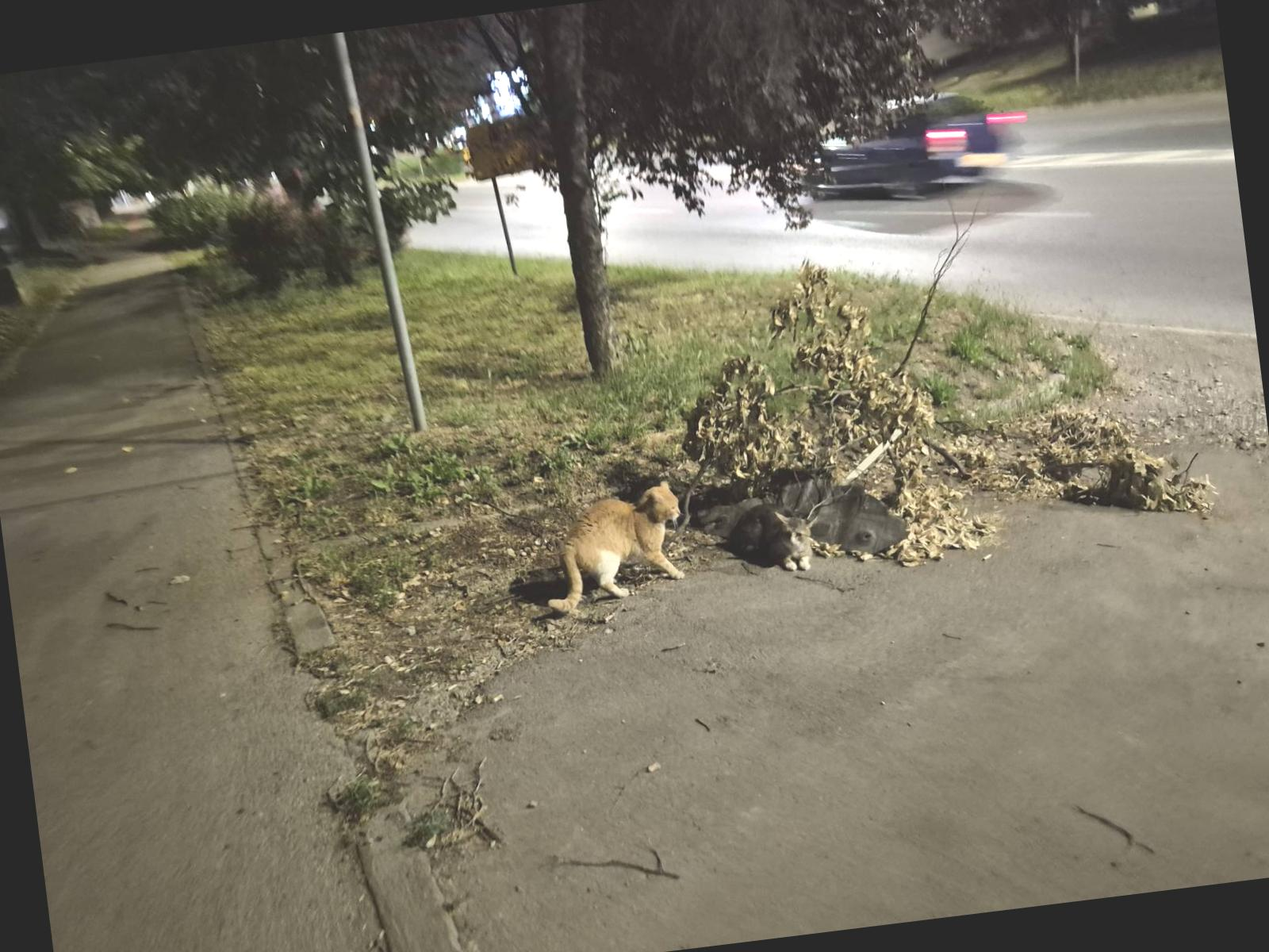macka: (536, 478, 690, 615), (725, 499, 824, 580)
